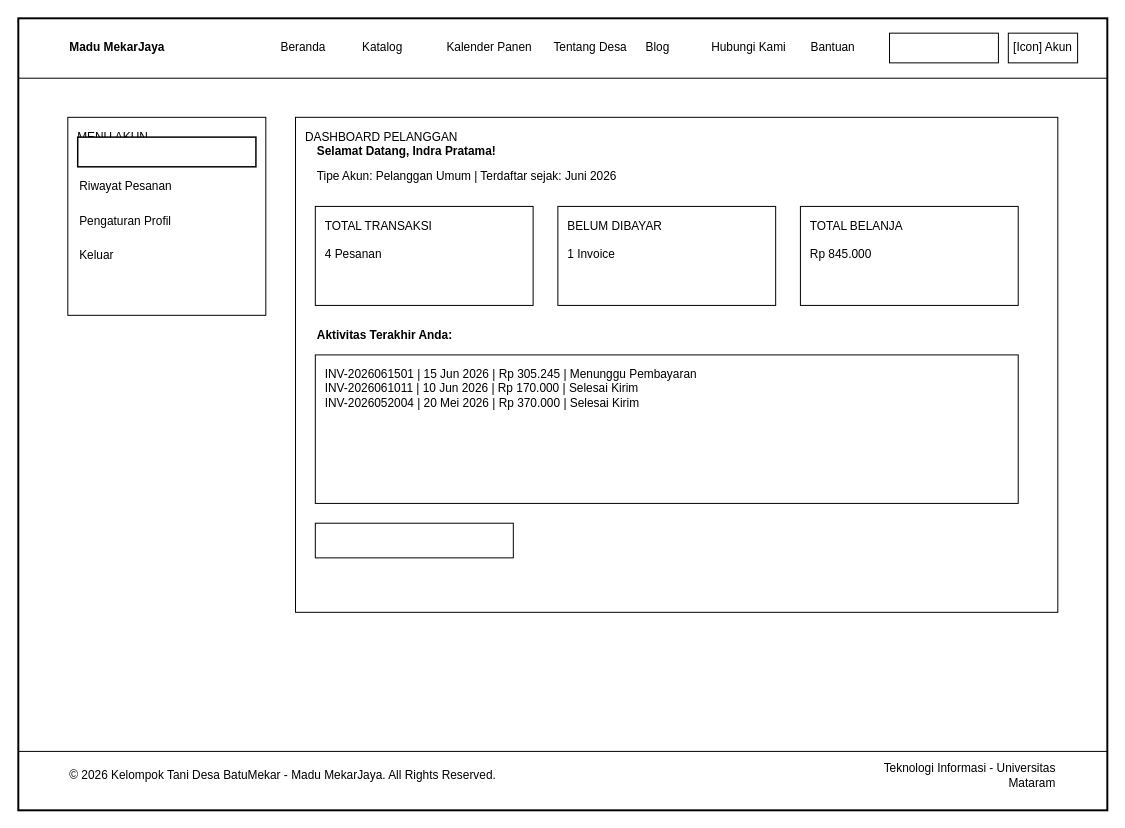
The diagram is 1125 pixels wide and 828 high, and some of its shapes have lost their labels. The shapes that lost their labels are listed below. From the top down, each one's centre as x and y in pixels, then its label:
point 943,47: [Icon] Keranjang (2)
point 166,151: Dashboard Saya
point 413,540: Lihat Semua Pesanan Saya
